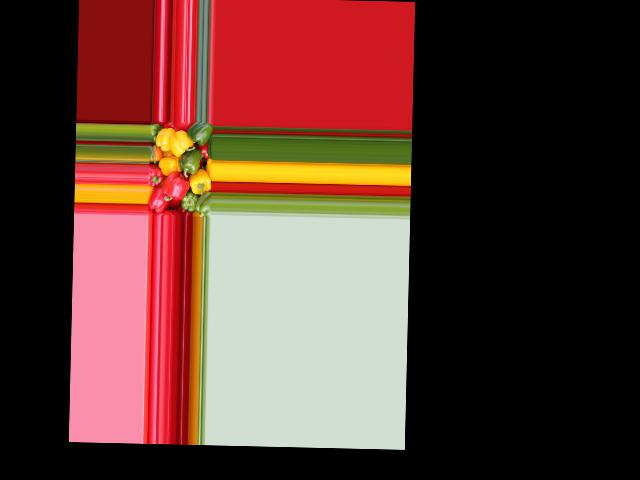bell_pepper: (149, 124, 160, 145)
